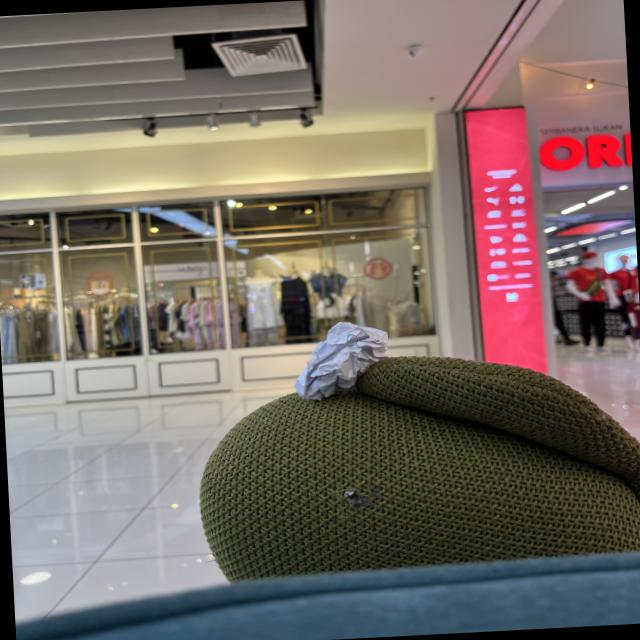crumpled_paper: (290, 320, 396, 403)
